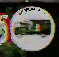Heavy Vehicles: (7, 5, 58, 55)
